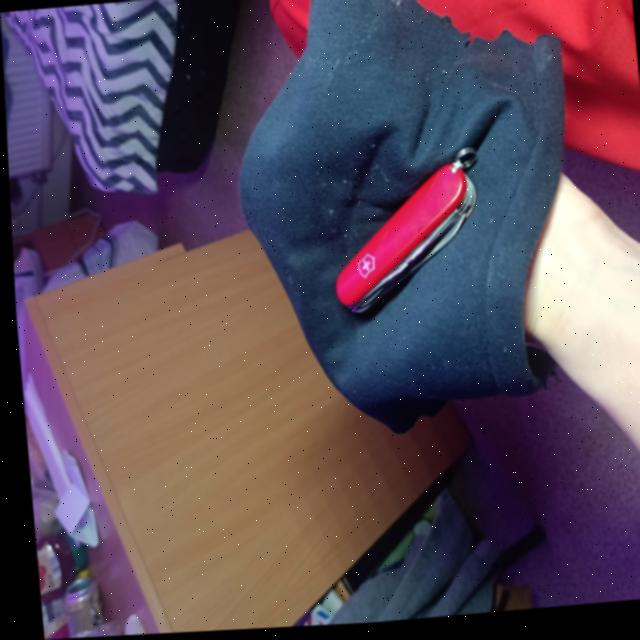knife victorinox: (332, 152, 474, 315), (335, 274, 373, 310)
